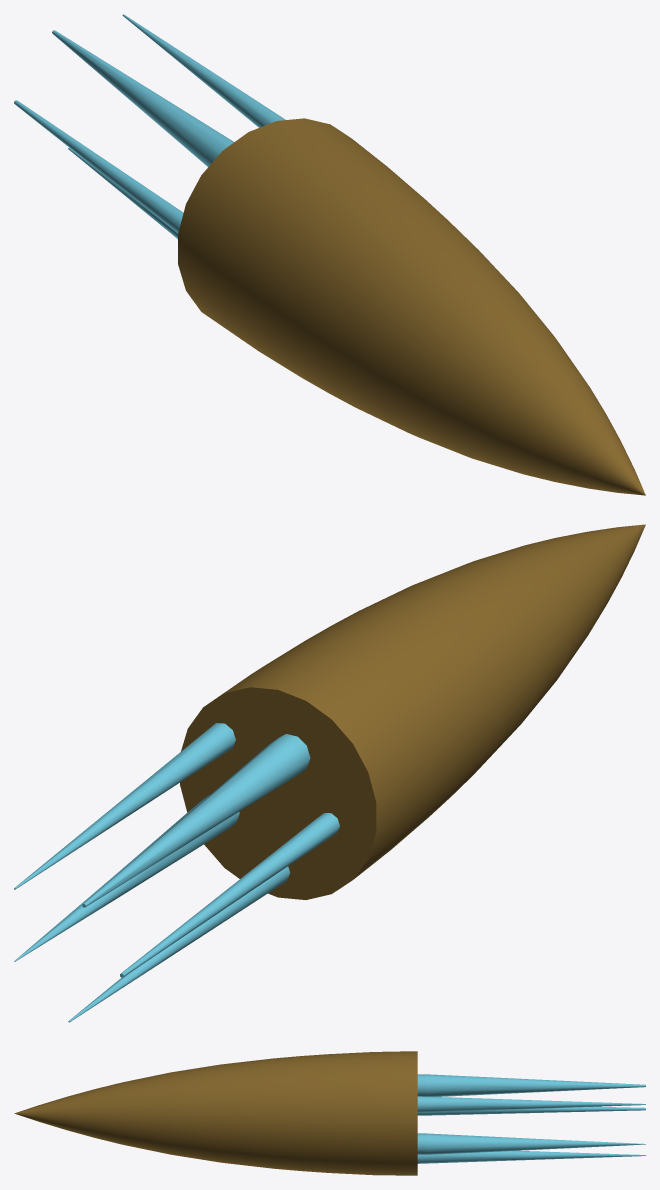
Rendered from Speed Bullet.obj.
The picture shows the model from 3 angles, top to bottom: view 1: azimuth 30°, elevation 25°; view 2: azimuth 150°, elevation 25°; view 3: azimuth 270°, elevation 25°; orthographic projection. The views are drawn at different scales.
Visible parts, largest first — view 1: Body365; view 2: Body365; view 3: Body365.
Boxes of the visible parts, box(x1,y1,x2,y2) form: Body365: box(14, 14, 645, 495); Body365: box(14, 524, 645, 1022); Body365: box(14, 1051, 645, 1175).
Bounding box in the file's own units: 7.09 × 7.16 × 36.
